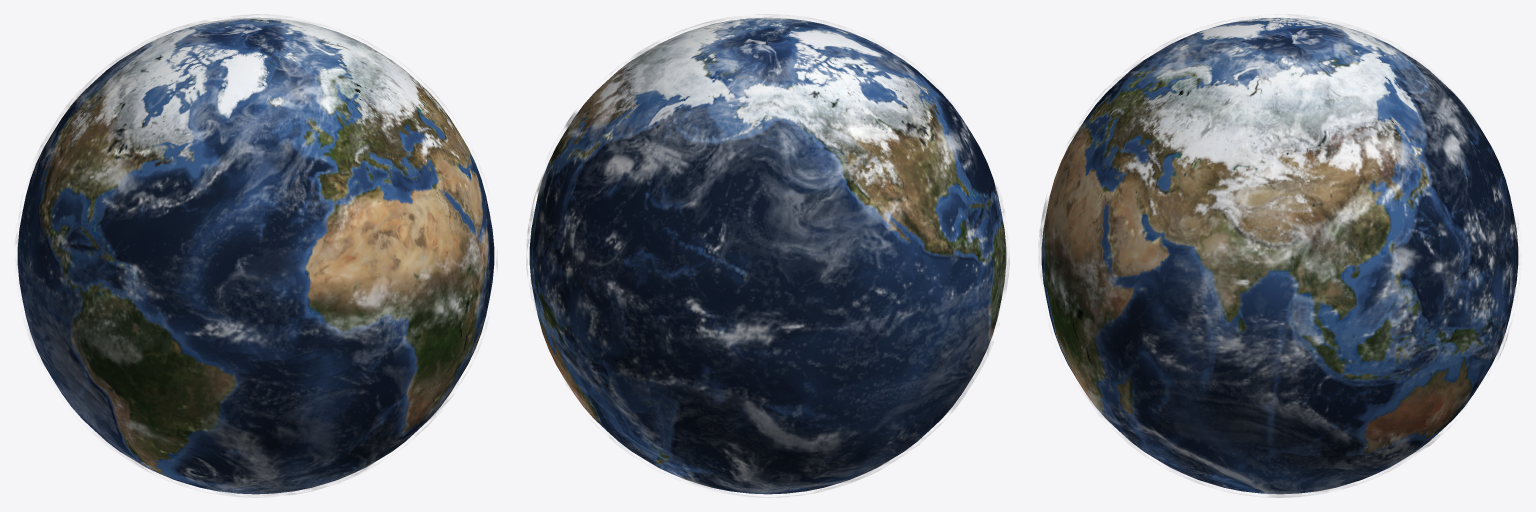
File: earth.glb
The picture shows the model from 3 angles, left to right: view 1: azimuth 30°, elevation 25°; view 2: azimuth 150°, elevation 25°; view 3: azimuth 270°, elevation 25°; orthographic projection.
Parts seen in each view (by area): view 1: Sphere, Sphere.001; view 2: Sphere, Sphere.001; view 3: Sphere, Sphere.001.
Boxes of the visible parts, x1,y1,x2,y2 form: Sphere: [17, 17, 494, 494]; Sphere.001: [15, 14, 497, 497]; Sphere: [529, 17, 1006, 494]; Sphere.001: [526, 14, 1009, 497]; Sphere: [1041, 17, 1518, 494]; Sphere.001: [1038, 14, 1519, 497].
Bounding box in the file's own units: 2.03 × 2.03 × 2.03.
2 materials, 2 textured.
